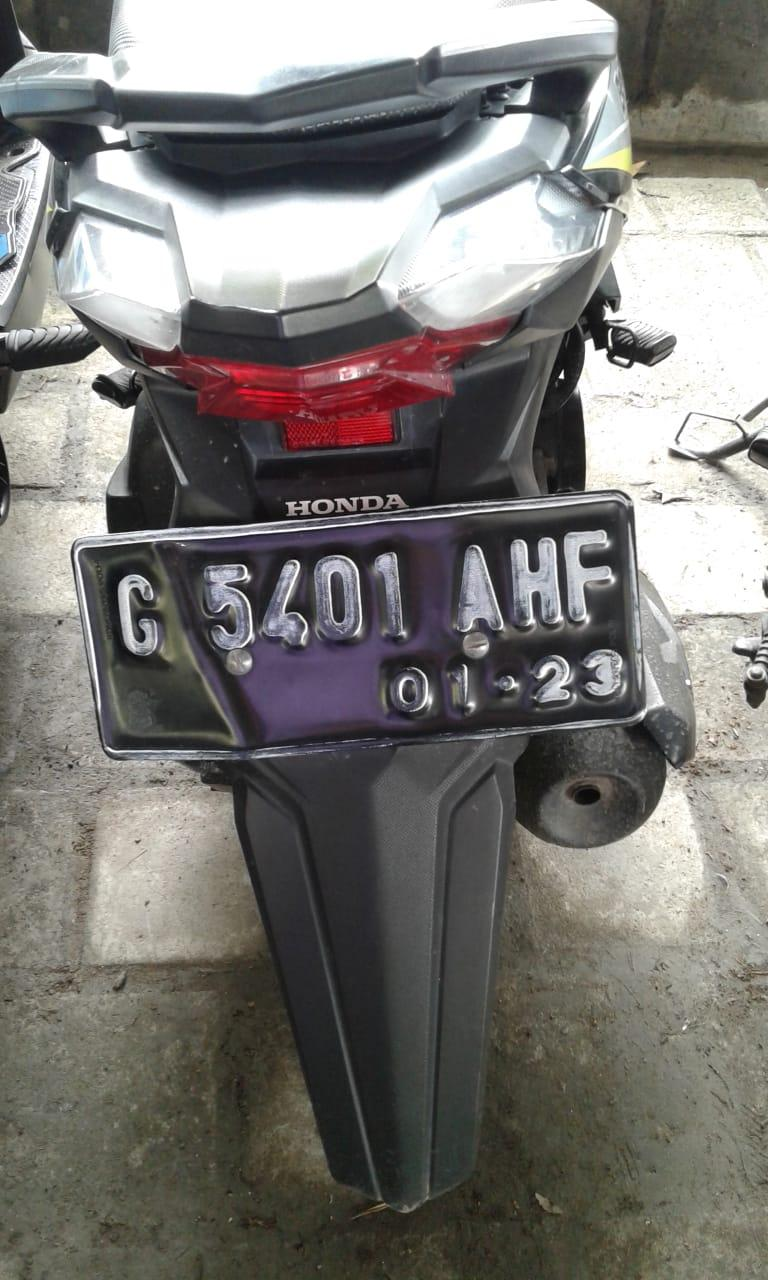plat: (72, 490, 645, 760)
